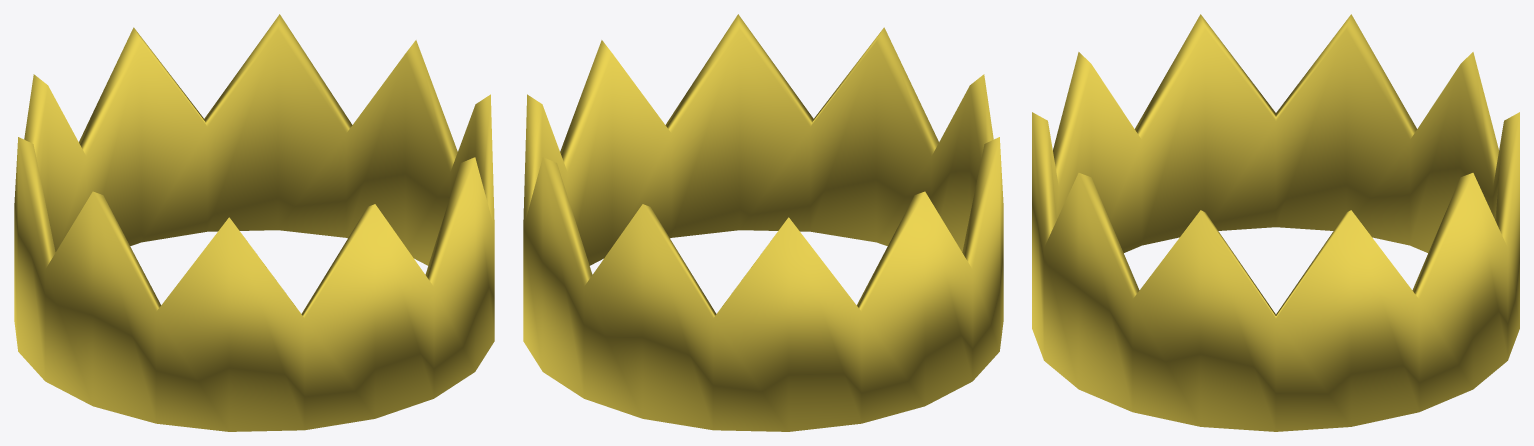
File: amogus-hat-crown.fbx
The picture shows the model from 3 angles, left to right: view 1: azimuth 30°, elevation 25°; view 2: azimuth 150°, elevation 25°; view 3: azimuth 270°, elevation 25°; orthographic projection.
Parts seen in each view (by area): view 1: Crown; view 2: Crown; view 3: Crown.
Boxes of the visible parts, x1,y1,x2,y2 form: Crown: [14, 14, 494, 431]; Crown: [523, 14, 1003, 431]; Crown: [1032, 14, 1519, 431].
Bounding box in the file's own units: 85.09 × 85.09 × 41.75.
